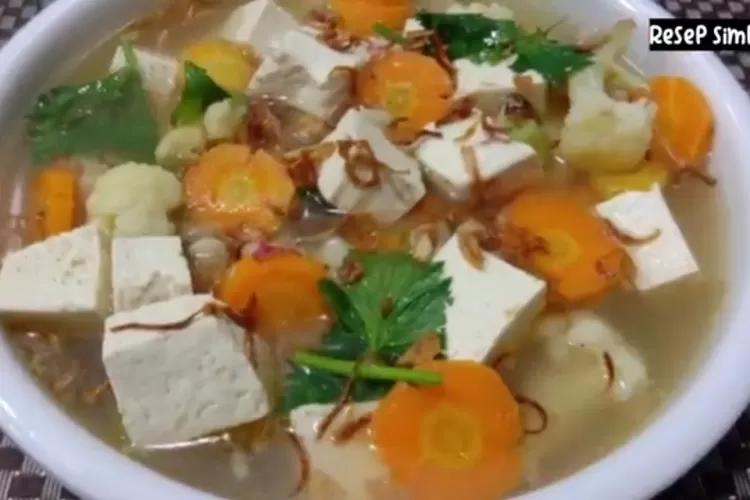buah_sayur_lainnya: (318, 258, 409, 400), (569, 63, 646, 181), (79, 89, 147, 156)
buah_sayur_vitA: (415, 370, 506, 493), (196, 153, 287, 226), (528, 199, 599, 286), (373, 54, 444, 120)
kacang_legume: (7, 230, 226, 432), (330, 129, 507, 219), (263, 20, 332, 120), (451, 251, 508, 361)
